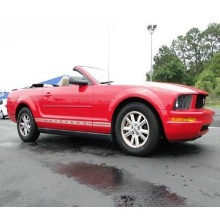no damage: (7, 66, 215, 156)
